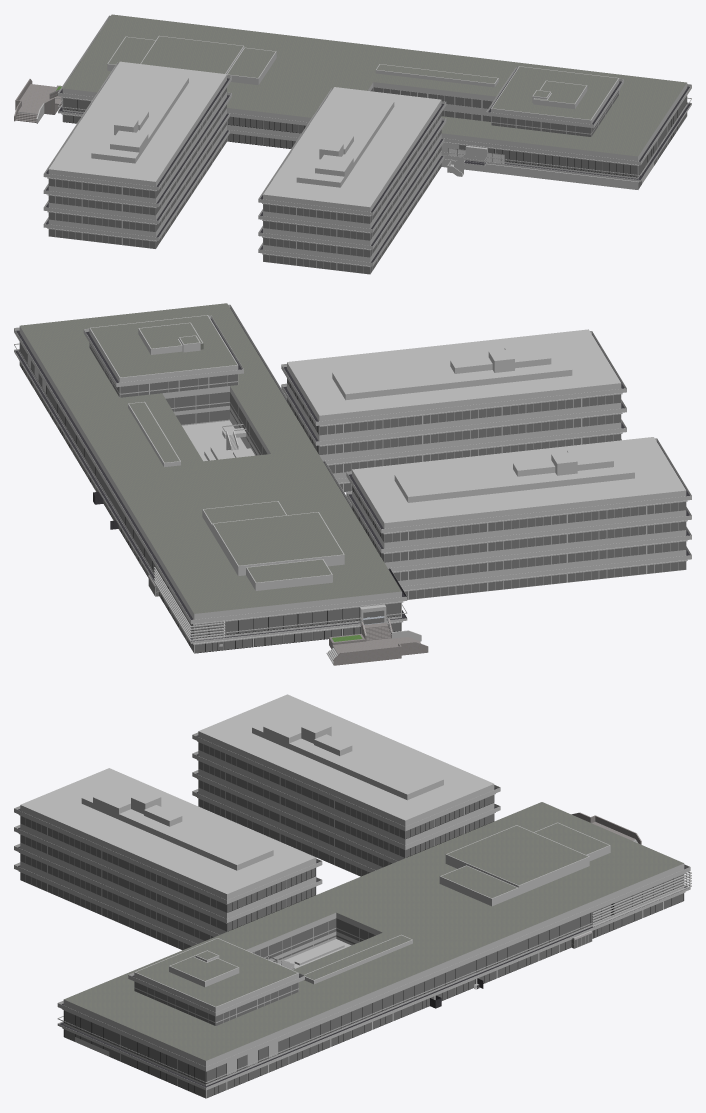
The picture shows the model from 3 angles, top to bottom: view 1: azimuth 30°, elevation 25°; view 2: azimuth 150°, elevation 25°; view 3: azimuth 270°, elevation 25°; orthographic projection. The views are drawn at different scales.
Visible parts, largest first — view 1: Sketchup.005, G-__557931, G-__557958, G-__557904; view 2: Sketchup.005, 5er-Segment_links.006, 5er-Segment_links.007, 5er-Segment_rechts.002, 5er-Segment_rechts.003, 5er-Segment_links.004, 5er-Segment_links.005, 5er-Segment_rechts.001, 5er-Segment_rechts.007, 5er-Segment_rechts, 5er-Segment_rechts.008, 5er-Segment_rechts.045 (+38 smaller); view 3: Sketchup.005.
Boxes of the visible parts, x1,y1,x2,y2 form: Sketchup.005: (14,14,691,274); G-__557931: (566,157,602,172); G-__557958: (602,162,637,177); G-__557904: (531,153,566,168); Sketchup.005: (14,303,691,665); 5er-Segment_links.006: (527,503,568,527); 5er-Segment_links.007: (527,523,568,547); 5er-Segment_rechts.002: (646,510,687,534); 5er-Segment_rechts.003: (646,490,687,514); 5er-Segment_links.004: (527,543,568,566); 5er-Segment_links.005: (527,563,568,586); 5er-Segment_rechts.001: (646,530,687,554); 5er-Segment_rechts.007: (487,527,528,551); 5er-Segment_rechts: (646,550,687,573); 5er-Segment_rechts.008: (487,547,528,571); 5er-Segment_rechts.045: (581,403,622,426); Sketchup.005: (14,694,691,1090).
Size of the model in its own units: 190 by 24.52 by 163.
11 materials, 7 textured.
